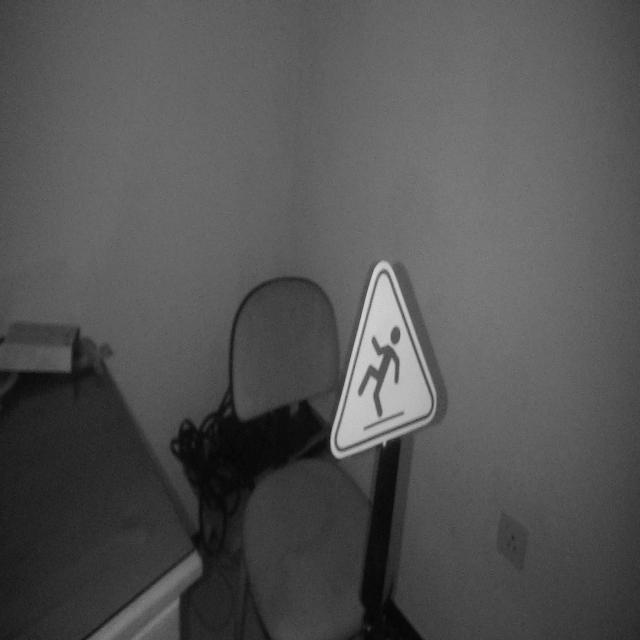slippery_sign: (263, 224, 490, 557)
